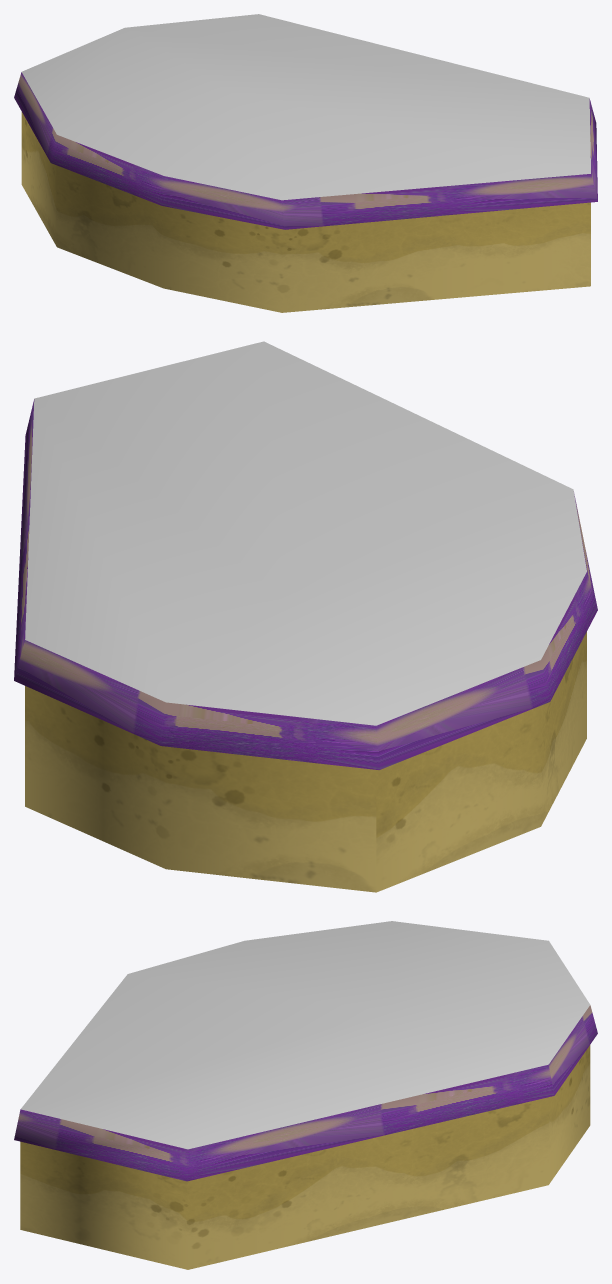
Rendered from bgi 2.fbx.
The picture shows the model from 3 angles, top to bottom: view 1: azimuth 30°, elevation 25°; view 2: azimuth 150°, elevation 25°; view 3: azimuth 270°, elevation 25°; orthographic projection. The views are drawn at different scales.
Parts seen in each view (by area): view 1: polySurface100; view 2: polySurface100; view 3: polySurface100.
Part boxes in pixels (left/top/right/bottom): polySurface100: left=14, top=14, right=597, bottom=312; polySurface100: left=14, top=341, right=597, bottom=892; polySurface100: left=14, top=921, right=597, bottom=1269.
Size of the model in its own units: 1.83 by 0.4368 by 1.92.
